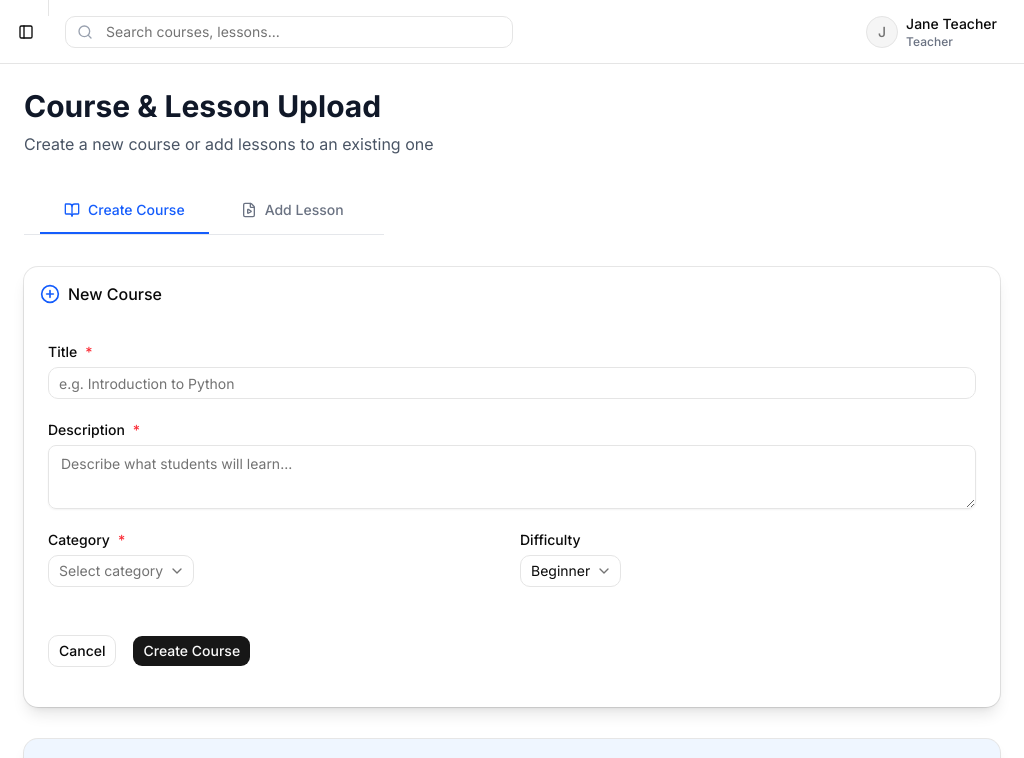
Test: Teacher Upload Page - Course Creation (9.1) › shows success message after course creation (9.6)
In the field labelled "Title *": (512, 383) [48,367,976,399], type "My Course"
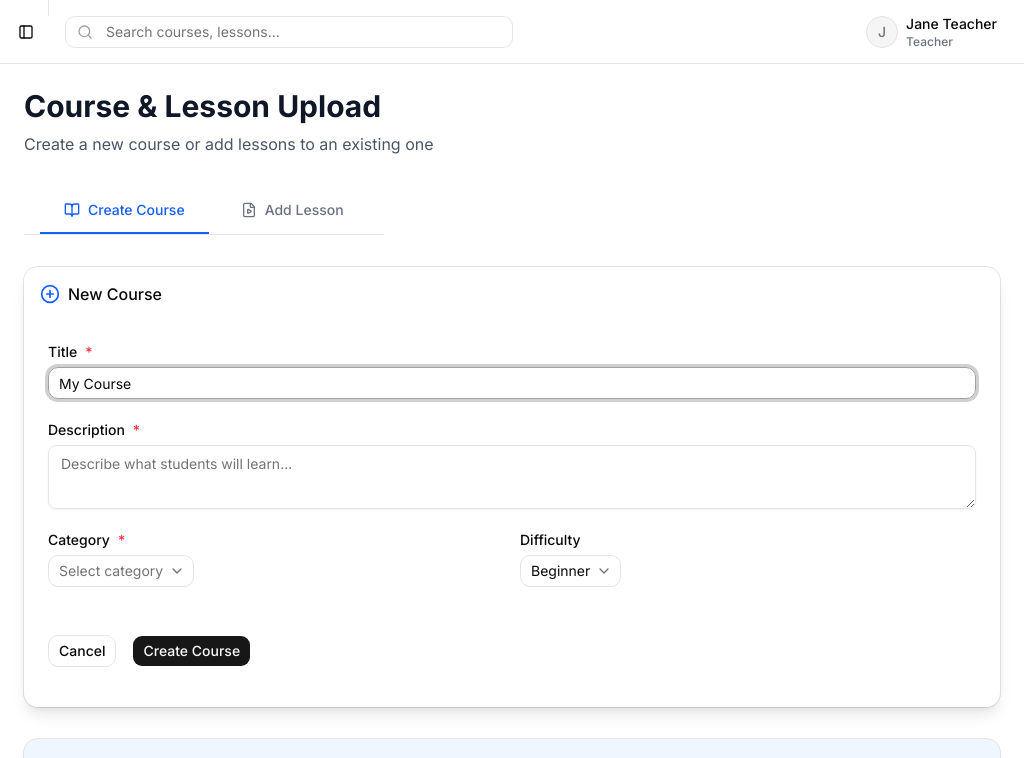
In the text box labelled "Description *": (512, 477) [48,445,976,509], type "Description here"
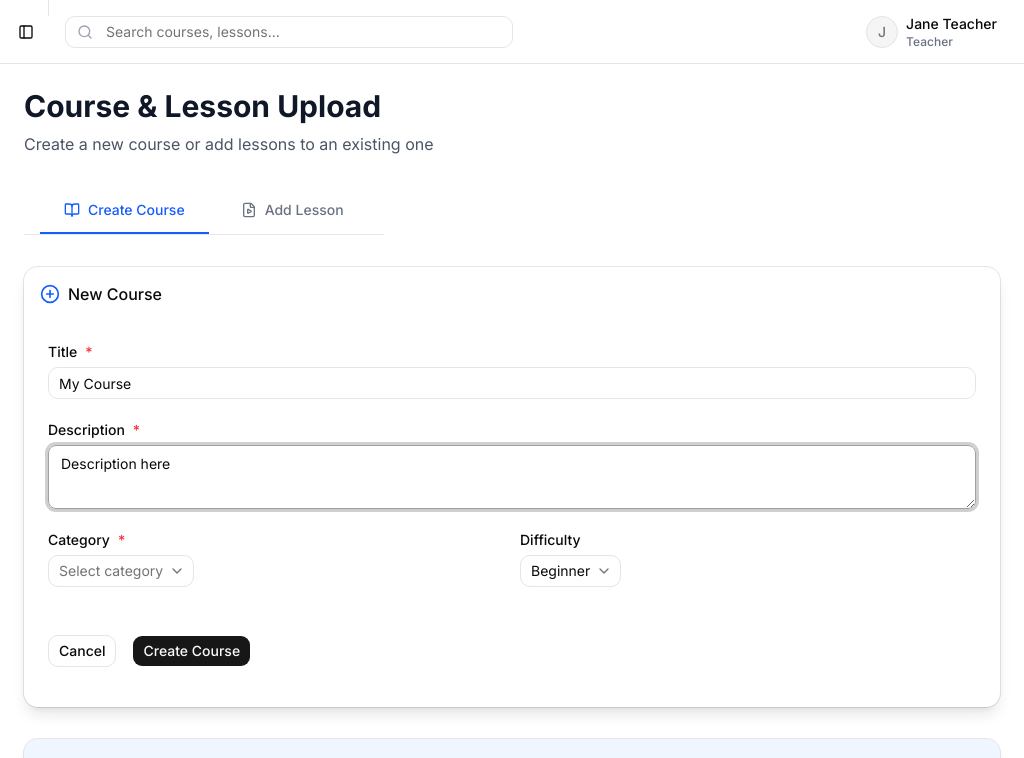
Click the dropdown labelled "Select category": (121, 571) [48,555,194,587]
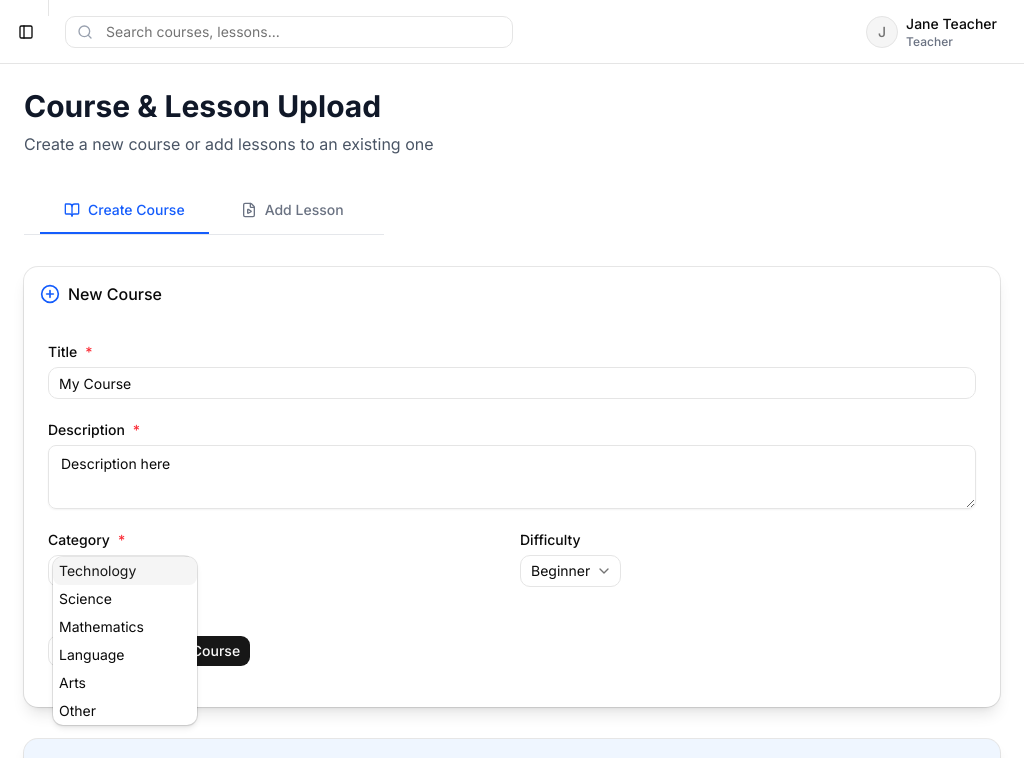
Check: the option "Science" is shown
Click the option "Science": (86, 598) [59,590,112,607]
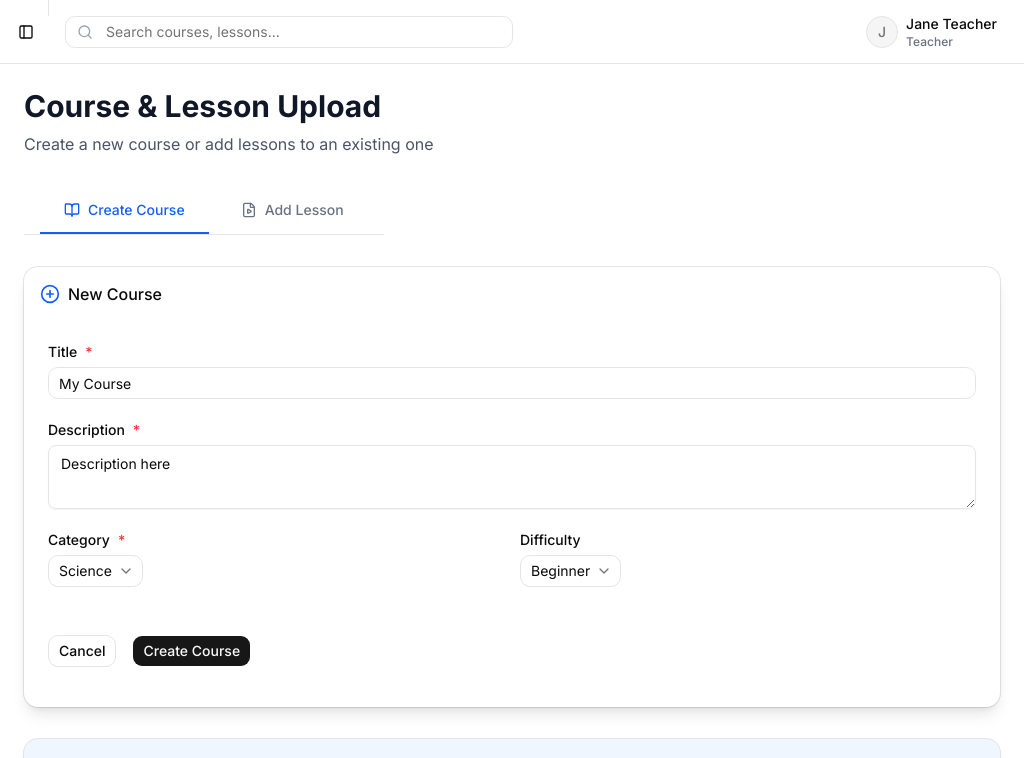
Submit the form, box [48,345,976,667]
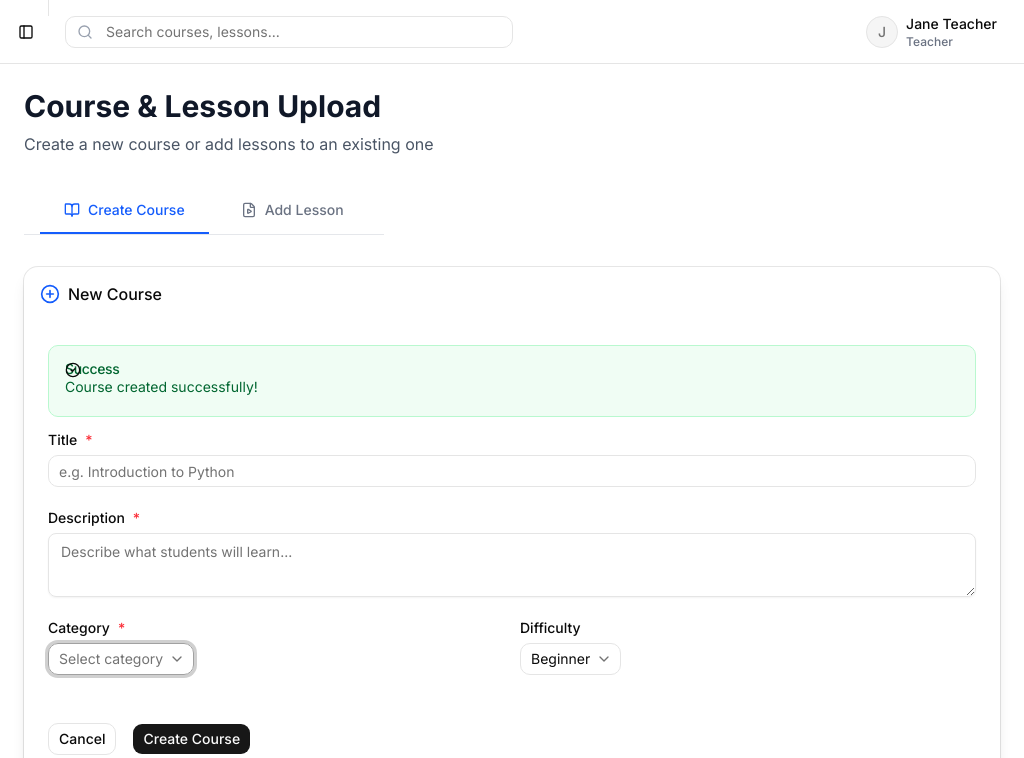
Check: the text "Course created successfully!" is shown, box [65,378,258,395]
